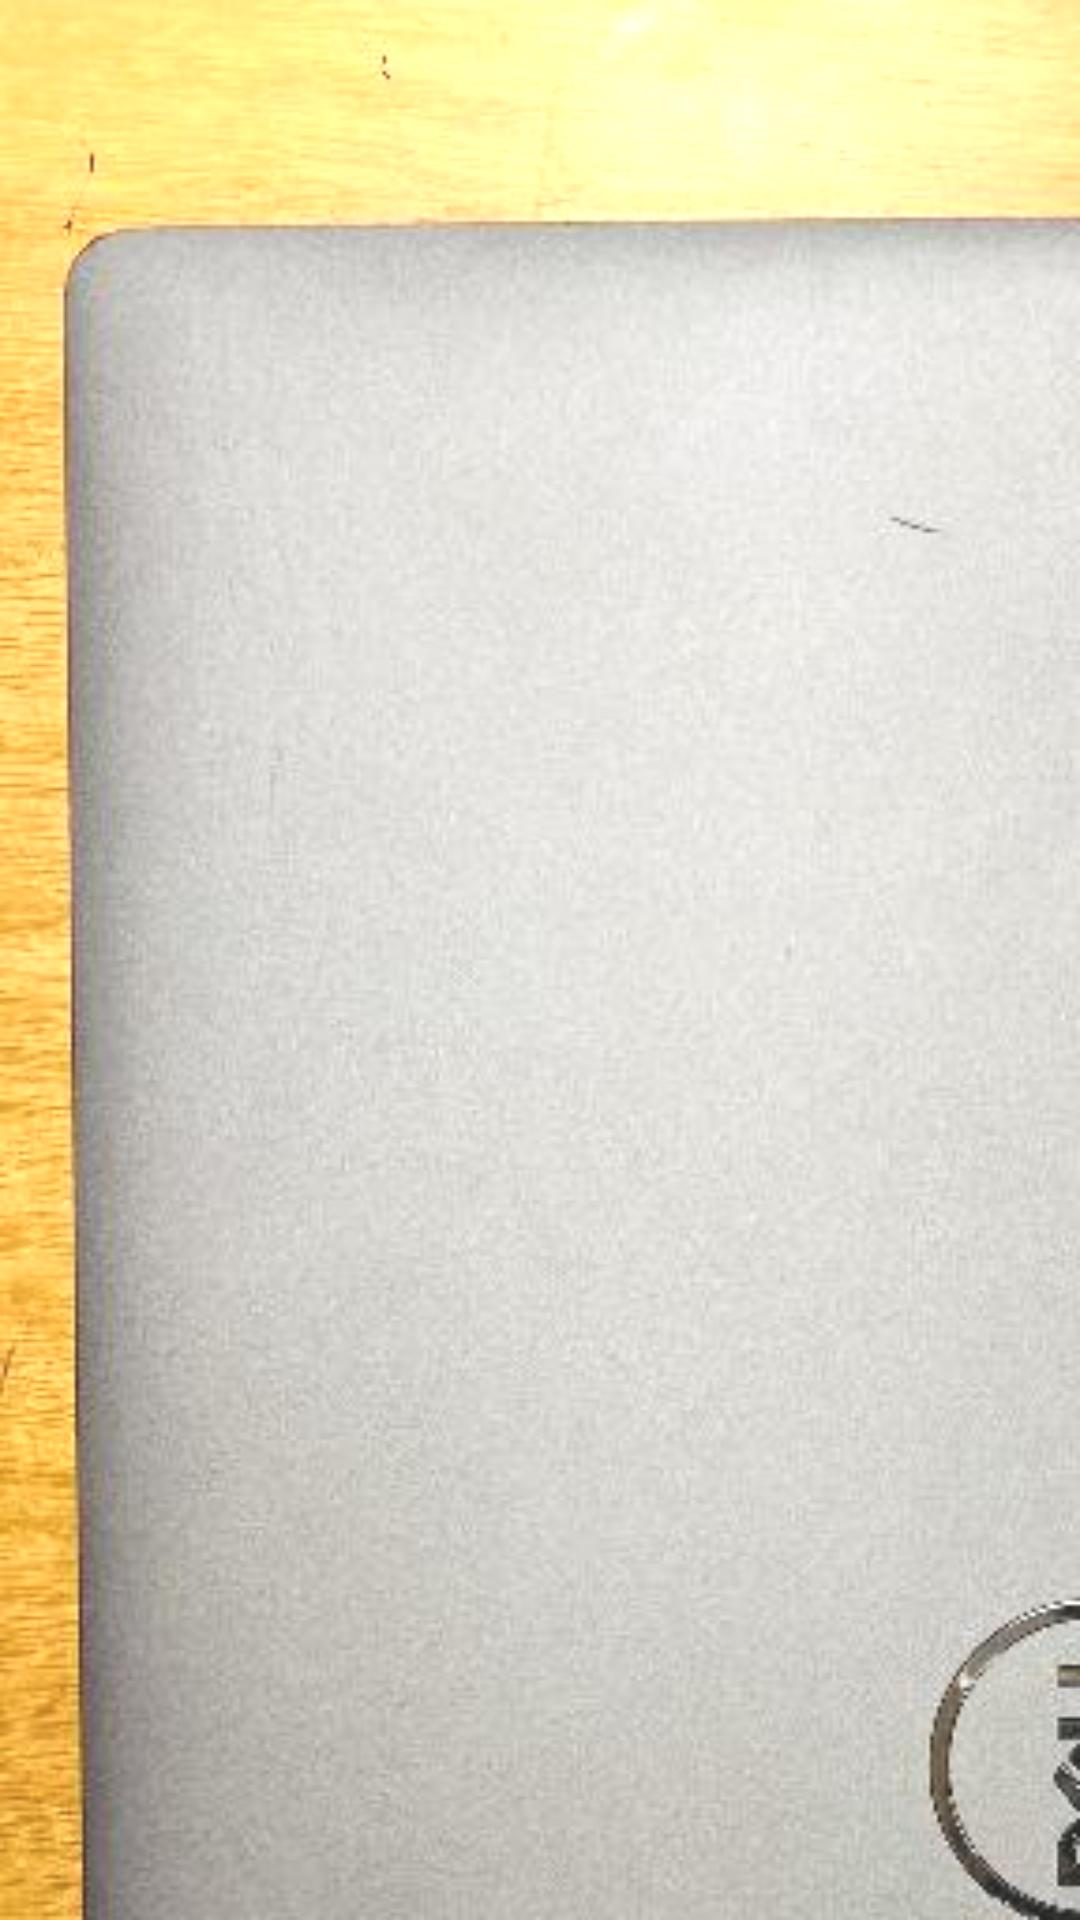scratches: (887, 514, 948, 535)
